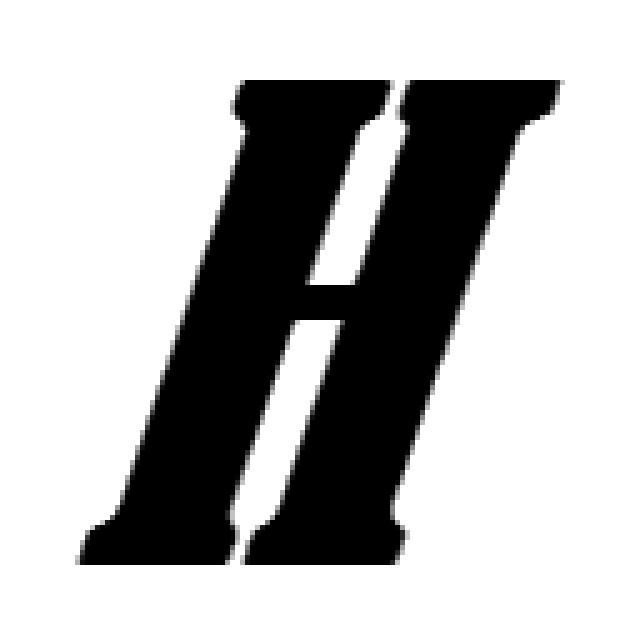H: (80, 80, 560, 565)
